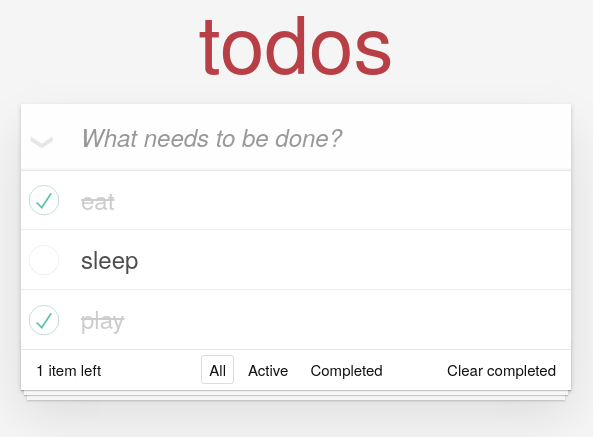
展示剩余任务的数量 › 展示所有剩余未完成任务数量
expect the text with test id "remaining" reads "1": met, box [36,359,44,380]
Click the checkbox with test id "todo-done" at coordinates (296, 200), box [21,171,571,229]
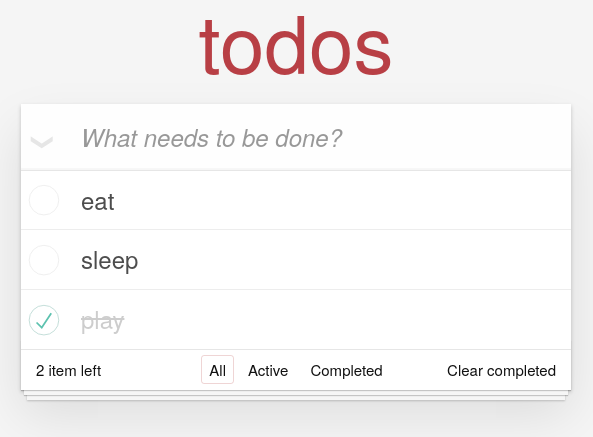
expect the text with test id "remaining" reads "2": met, box [36,359,44,380]
